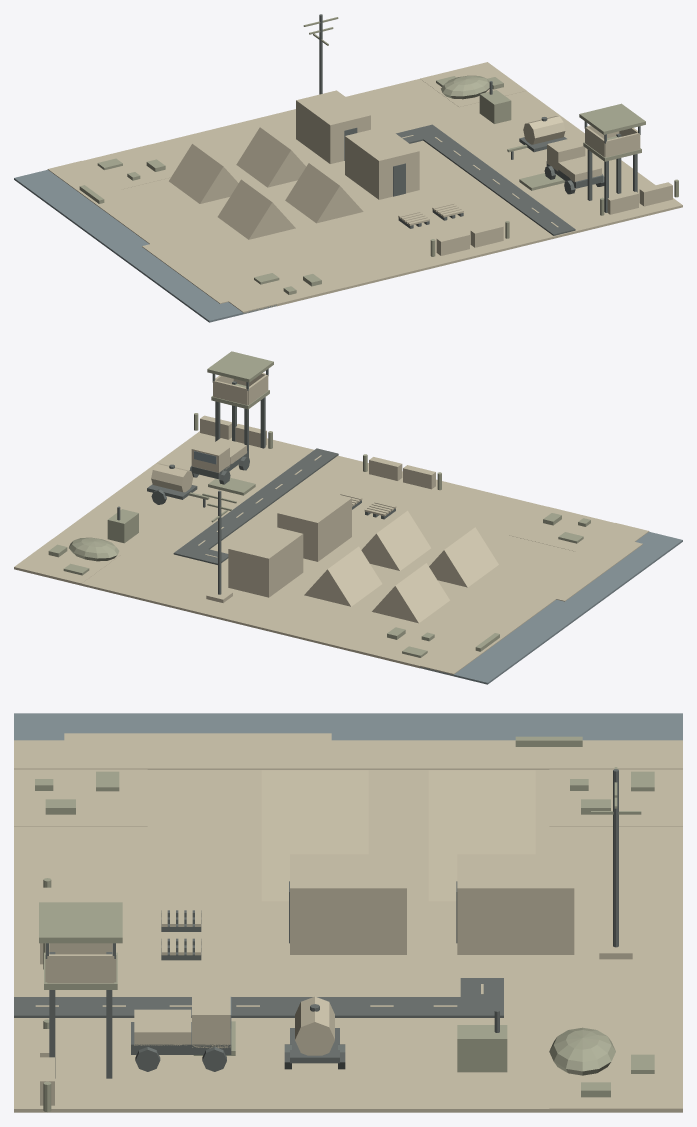
The model's file is spoke-b.glb.
The picture shows the model from 3 angles, top to bottom: view 1: azimuth 30°, elevation 25°; view 2: azimuth 150°, elevation 25°; view 3: azimuth 270°, elevation 25°; orthographic projection. The views are drawn at different scales.
Visible parts, largest first — view 1: terrain-sand-0, terrain-coast-1, terrain-coast-0, chu.001, chu, tent.002, tent.003, tent.001, tent, terrain-scrub-0.002, terrain-scrub-0, terrain-scrub-0.001 (+17 smaller); view 2: terrain-sand-0, terrain-coast-1, terrain-coast-0, chu, chu.001, tent.001, tent, tent.003, tent.002, terrain-scrub-0, terrain-scrub-0.002, terrain-scrub-0.001 (+15 smaller); view 3: terrain-sand-0, terrain-coast-1, terrain-coast-0, chu, chu.001, terrain-scrub-0.002, terrain-scrub-0, tent, tent.002, terrain-scrub-0.001, tent.001, tent.003 (+21 smaller).
Part boxes in pixels (box(x1,y1,x2,y2)): terrain-sand-0: box(121, 79, 682, 306); terrain-coast-1: box(47, 161, 276, 313); terrain-coast-0: box(14, 169, 276, 322); chu.001: box(345, 126, 419, 199); chu: box(296, 90, 370, 163); tent.002: box(217, 179, 295, 239); tent.003: box(285, 163, 363, 223); tent.001: box(236, 127, 306, 187); tent: box(169, 144, 238, 203); terrain-scrub-0.002: box(238, 259, 344, 304); terrain-scrub-0: box(82, 144, 177, 189); terrain-scrub-0.001: box(420, 62, 526, 107); terrain-sand-0: box(14, 431, 575, 668); terrain-coast-1: box(420, 523, 649, 675); terrain-coast-0: box(420, 531, 682, 684); chu: box(228, 524, 303, 597); chu.001: box(277, 488, 351, 561); tent.001: box(304, 546, 382, 606); tent: box(372, 563, 449, 623); tent.003: box(361, 510, 430, 570); tent.002: box(429, 527, 498, 587); terrain-scrub-0: box(352, 621, 458, 667); terrain-scrub-0.002: box(509, 506, 614, 551); terrain-scrub-0.001: box(14, 538, 120, 583); terrain-sand-0: box(14, 769, 682, 1112); terrain-coast-1: box(14, 740, 682, 769); terrain-coast-0: box(14, 713, 682, 740); chu: box(457, 854, 574, 954); chu.001: box(290, 854, 406, 954); terrain-scrub-0.002: box(14, 769, 147, 826); terrain-scrub-0: box(549, 769, 682, 826); tent: box(428, 770, 535, 826); tent.002: box(261, 770, 368, 826); terrain-scrub-0.001: box(549, 1052, 682, 1112); tent.001: box(428, 827, 535, 901); tent.003: box(261, 827, 368, 901).
Size of the model in its own units: 28.32 by 6.16 by 20.
